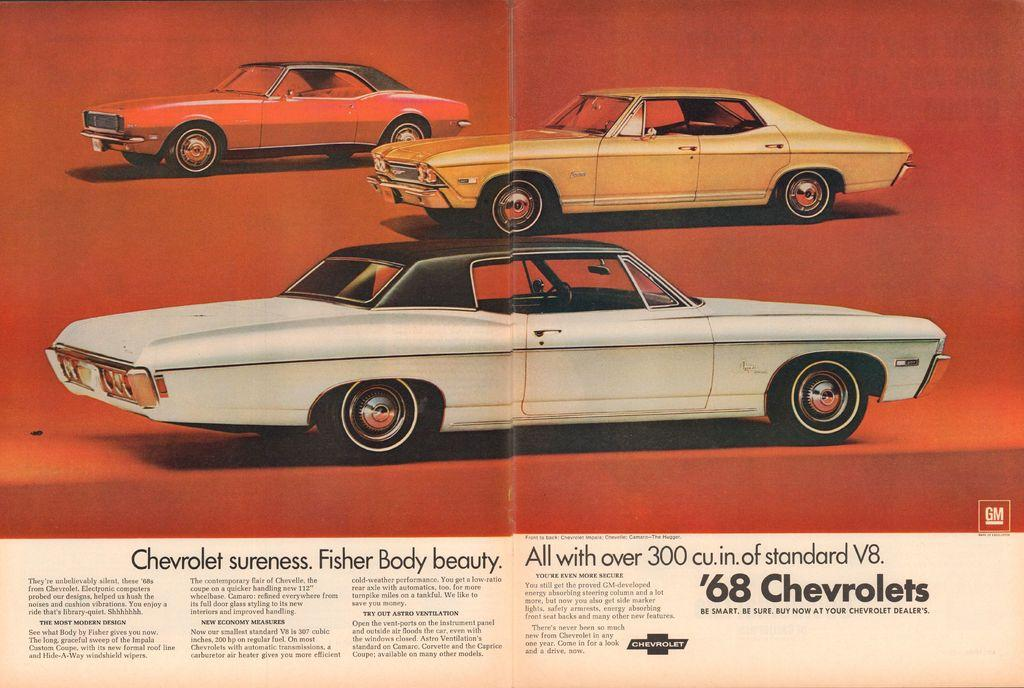Car: (42, 236, 952, 464), (368, 86, 916, 236), (79, 60, 470, 177)
